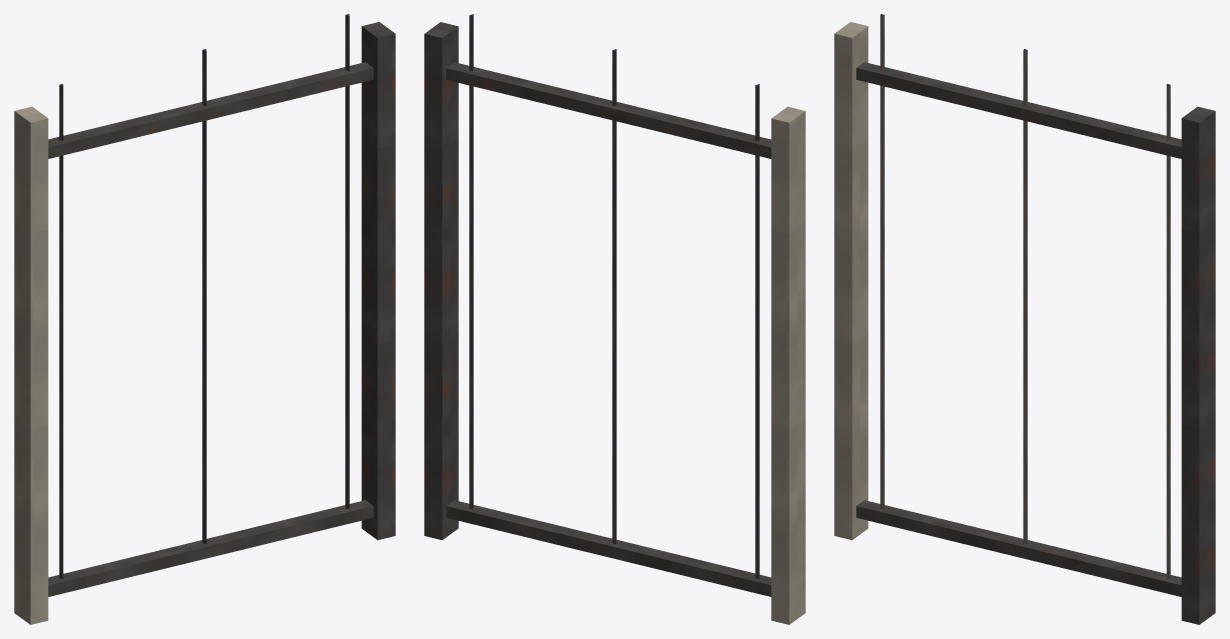
The model's file is Prop_MetalFence_Ornament_LOD2.gltf.
The picture shows the model from 3 angles, left to right: view 1: azimuth 30°, elevation 25°; view 2: azimuth 150°, elevation 25°; view 3: azimuth 330°, elevation 25°; orthographic projection.
Parts seen in each view (by area): view 1: Prop_MetalFence_Ornament_LOD2; view 2: Prop_MetalFence_Ornament_LOD2; view 3: Prop_MetalFence_Ornament_LOD2.
Part boxes in pixels (x1,y1,x2,y2): Prop_MetalFence_Ornament_LOD2: (14,14,395,624); Prop_MetalFence_Ornament_LOD2: (424,14,805,624); Prop_MetalFence_Ornament_LOD2: (834,14,1215,624).
Size of the model in its own units: 1.95 by 2.68 by 0.15.
2 materials, 2 textured.
